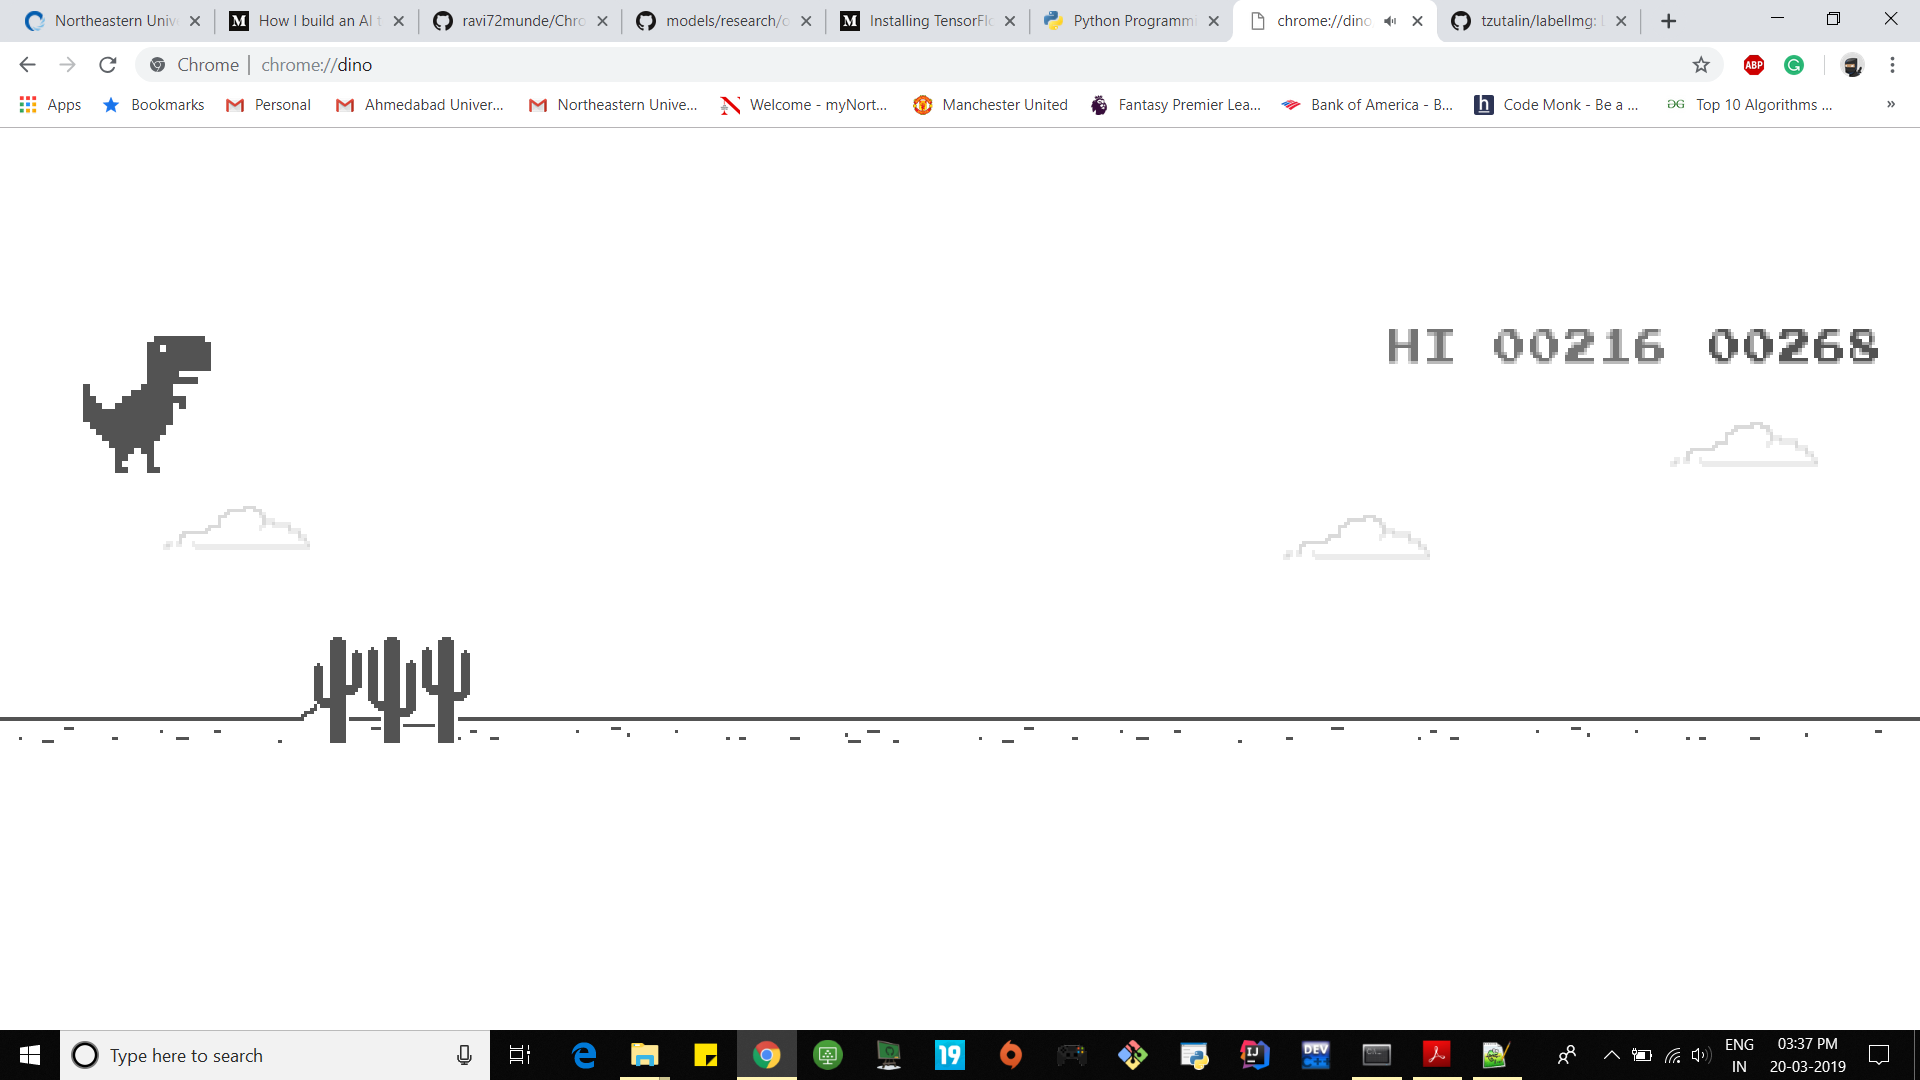cactus-3: (313, 636, 473, 741)
dino: (83, 338, 214, 473)
